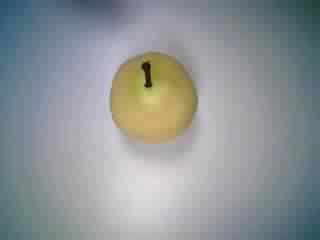pear: (98, 44, 204, 151)
